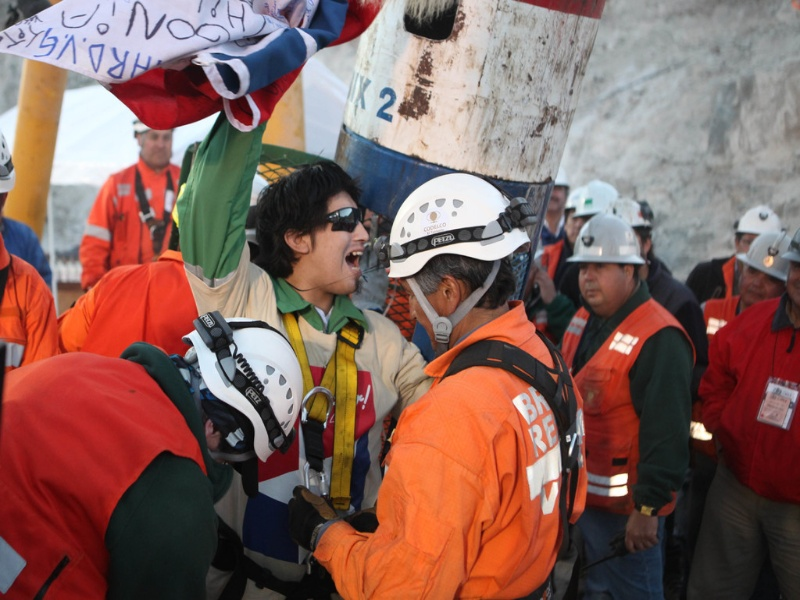Baret: (388, 172, 529, 277), (567, 214, 652, 265), (738, 232, 792, 283)
